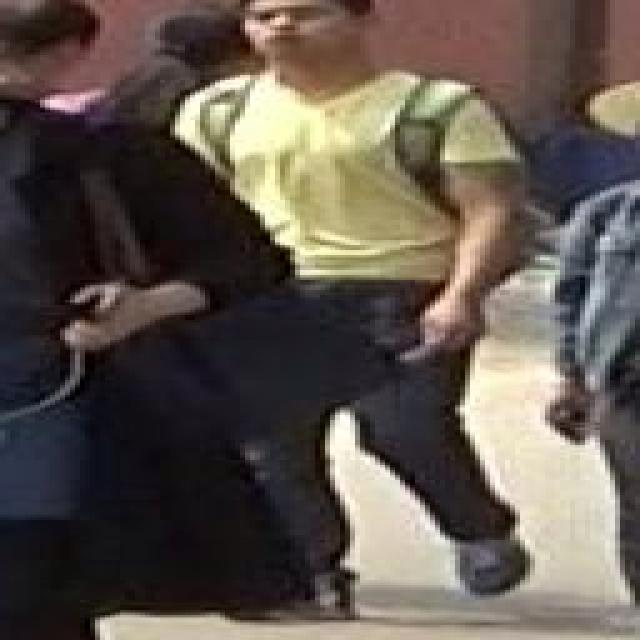adult: (158, 0, 534, 612), (0, 82, 300, 638), (540, 174, 640, 630), (54, 0, 268, 168), (0, 7, 104, 165)
